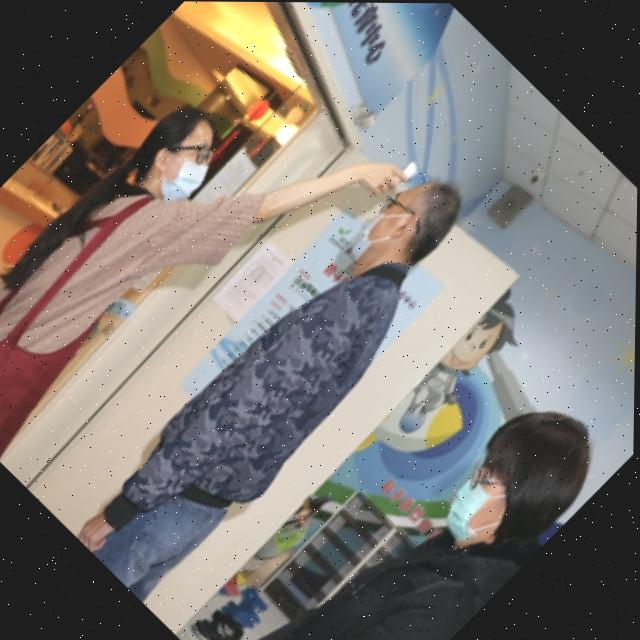Mask: (434, 473, 511, 549), (140, 140, 212, 212), (342, 207, 400, 264)
